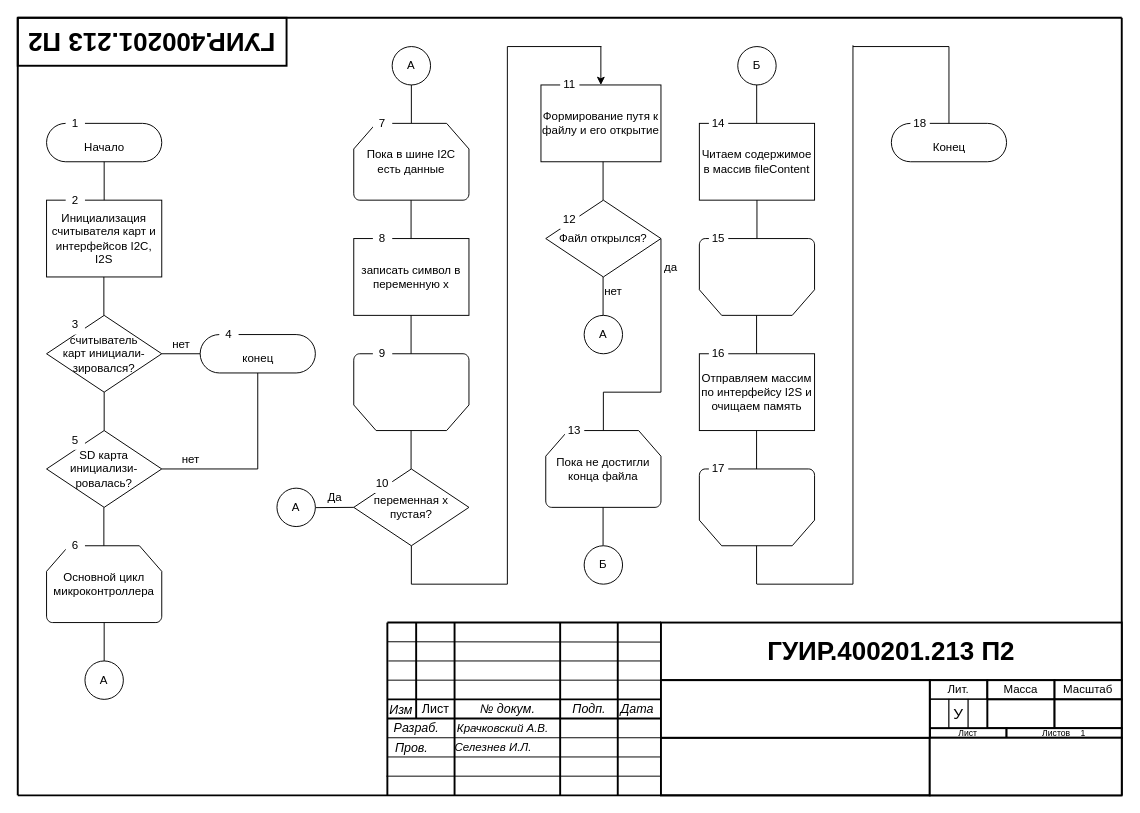
This 1140x813 diagram has some shape labels left out. The shapes that lost their labels are listed below. From the top down, each one's centre as x and y in pixels, then its label:
At (795,708): "Микроконтроллерное устройство синхронизированного вывода звуков".
At (1025,766): "ЭВМ, гр 050502".
